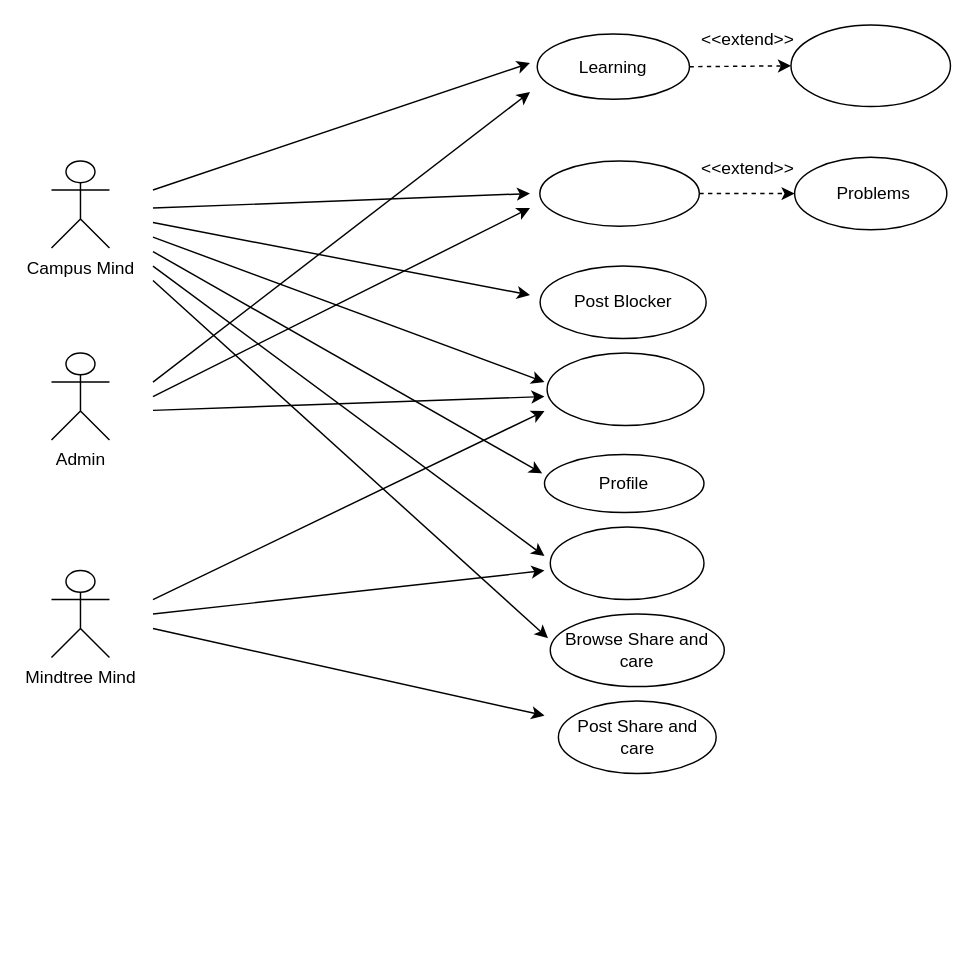
Image size: 976x958. Some labels were removed from this diagram. Here are the shapes that lost their labels. From the top down, the centre of each, then its label:
point 870,65: Search By Topic
point 618,193: Practice
point 625,389: Login
point 626,563: Register
